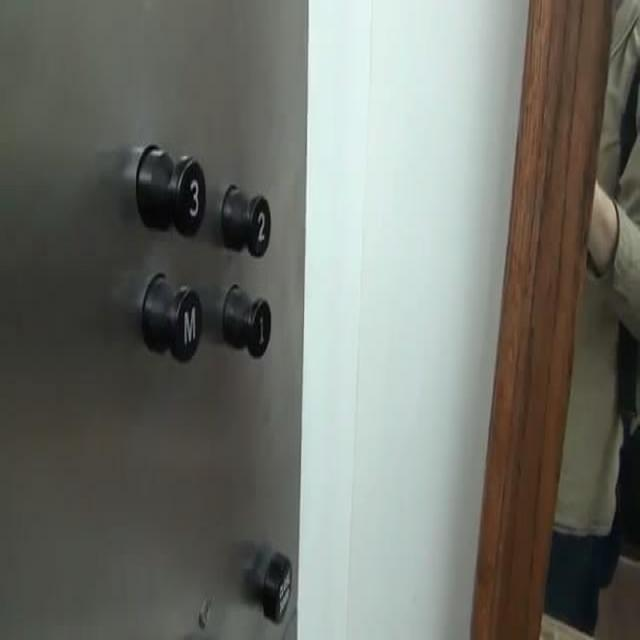1: (221, 282, 272, 358)
2: (220, 183, 270, 269)
3: (134, 137, 205, 239)
M: (141, 272, 201, 363)
text_blur: (254, 546, 292, 622)
